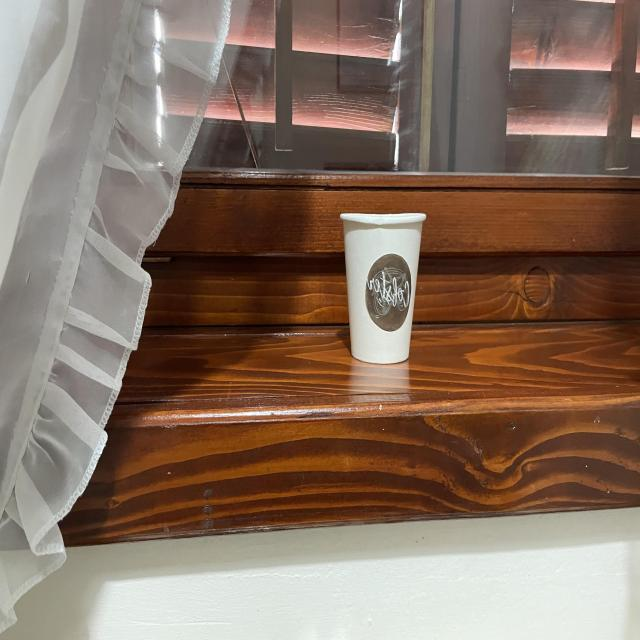medium: (338, 206, 430, 366)
